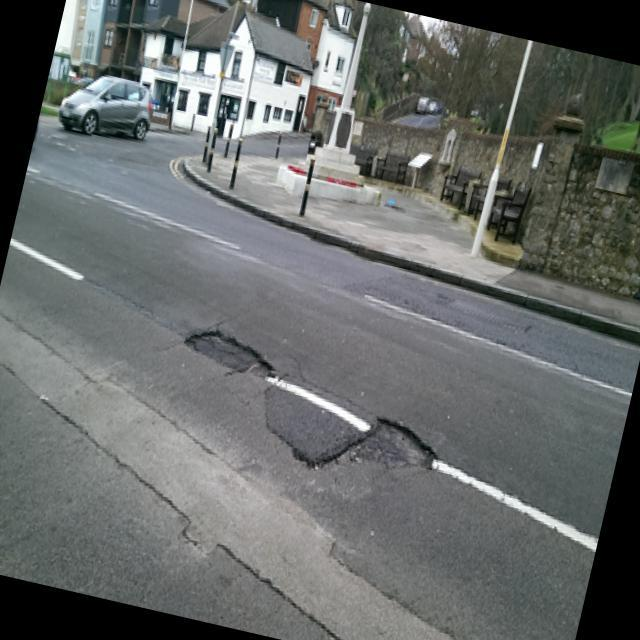Pothole: (336, 389, 448, 487), (174, 312, 285, 394)
